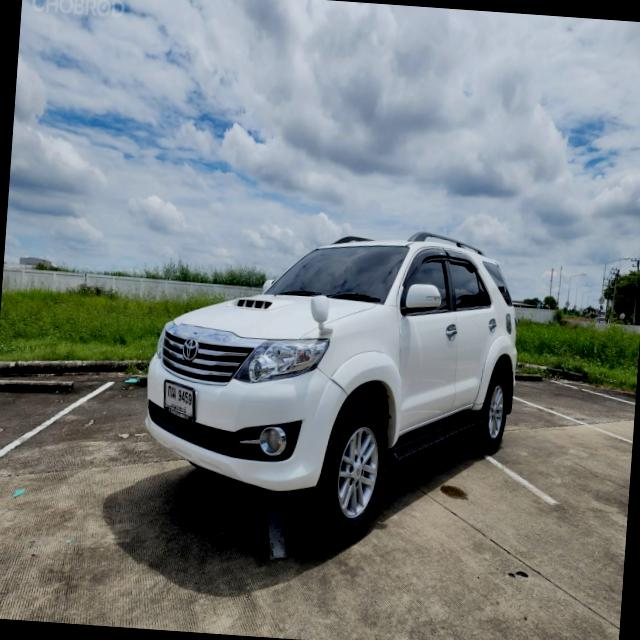license_plate: (160, 375, 200, 424)
